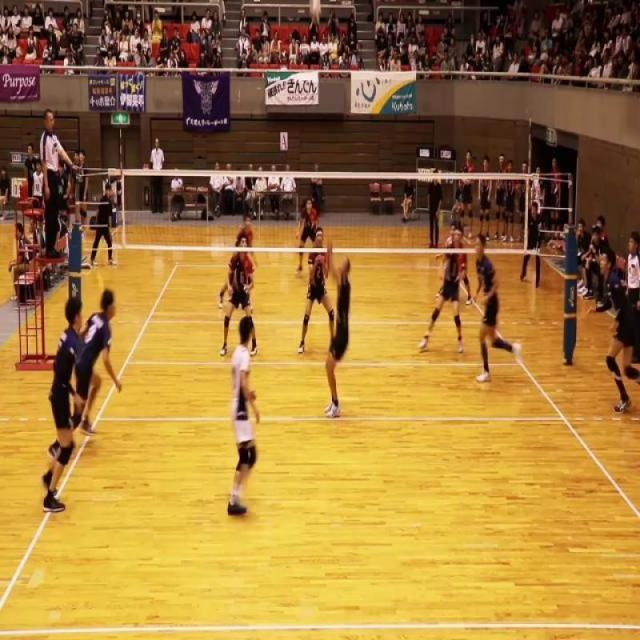volleyball: (308, 0, 321, 23)
